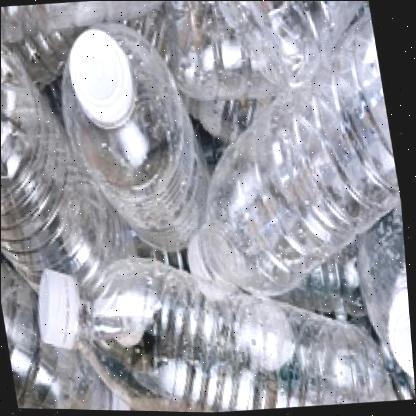Plastic Bottle: (37, 256, 344, 400), (182, 80, 380, 298), (62, 23, 208, 249)
